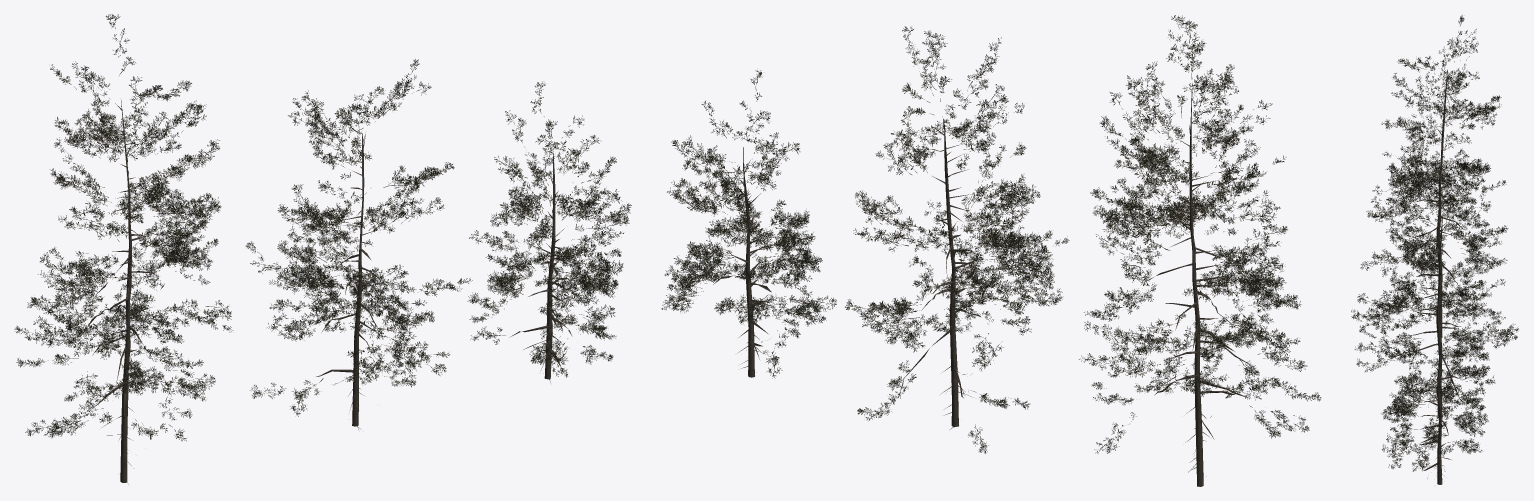
Rendered from pine_sapling_medium.glb.
3 renders of one model, left to right at view 1: azimuth 30°, elevation 25°; view 2: azimuth 150°, elevation 25°; view 3: azimuth 270°, elevation 25°, orthographic. The views are drawn at different scales.
Parts seen in each view (by area): view 1: pine_sapling_medium_a_LOD0, pine_sapling_medium_b_LOD0, pine_sapling_medium_c_LOD0; view 2: pine_sapling_medium_a_LOD0, pine_sapling_medium_b_LOD0, pine_sapling_medium_c_LOD0; view 3: pine_sapling_medium_a_LOD0, pine_sapling_medium_b_LOD0, pine_sapling_medium_c_LOD0.
Boxes of the visible parts, x1,y1,x2,y2 form: pine_sapling_medium_a_LOD0: [14, 14, 233, 484]; pine_sapling_medium_b_LOD0: [245, 59, 472, 429]; pine_sapling_medium_c_LOD0: [467, 82, 631, 382]; pine_sapling_medium_a_LOD0: [1079, 15, 1321, 486]; pine_sapling_medium_b_LOD0: [845, 26, 1069, 453]; pine_sapling_medium_c_LOD0: [661, 70, 836, 378]; pine_sapling_medium_a_LOD0: [1360, 15, 1508, 337]; pine_sapling_medium_b_LOD0: [1351, 160, 1518, 427]; pine_sapling_medium_c_LOD0: [1381, 294, 1490, 484].
Size of the model in its own units: 15.49 by 11.48 by 5.38.
3 materials, 3 textured.
